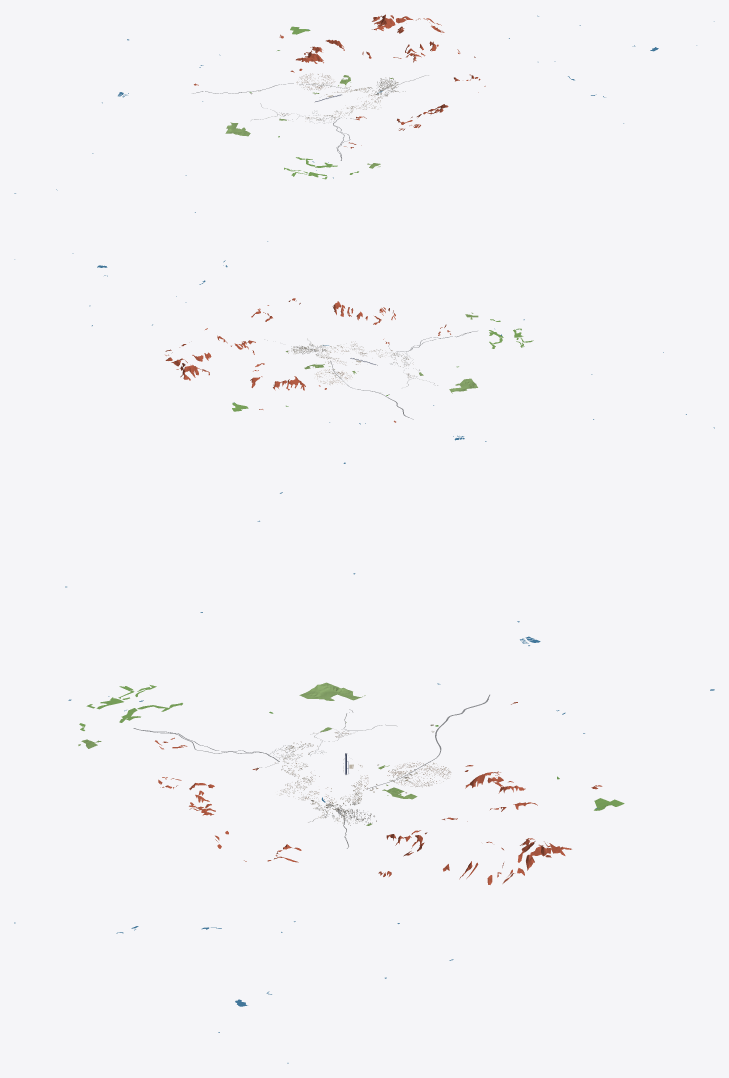
File: land.glb
3 views of the same model, one above another, from view 1: azimuth 30°, elevation 25°; view 2: azimuth 150°, elevation 25°; view 3: azimuth 270°, elevation 25° (orthographic). The views are drawn at different scales.
Parts seen in each view (by area): view 1: decal-area-rock, decal-area-green, buildings-1, buildings, decal-roads; view 2: decal-area-rock, decal-area-green, buildings-1, buildings; view 3: decal-area-rock, decal-area-green, buildings, buildings-1.
Part boxes in pixels (x1=…): decal-area-rock: x1=194, y1=14, x2=485, y2=148; decal-area-green: x1=225, y1=26, x2=393, y2=179; buildings-1: x1=322, y1=73, x2=398, y2=108; buildings: x1=250, y1=73, x2=366, y2=121; decal-roads: x1=192, y1=75, x2=428, y2=160; decal-area-rock: x1=165, y1=298, x2=450, y2=422; decal-area-green: x1=232, y1=312, x2=533, y2=411; buildings-1: x1=285, y1=341, x2=357, y2=376; buildings: x1=314, y1=342, x2=419, y2=394; decal-area-rock: x1=155, y1=702, x2=602, y2=884; decal-area-green: x1=78, y1=682, x2=624, y2=825; buildings: x1=257, y1=724, x2=451, y2=786; buildings-1: x1=275, y1=783, x2=439, y2=825.
Size of the model in its own units: 132671 by 2916 by 68763.
